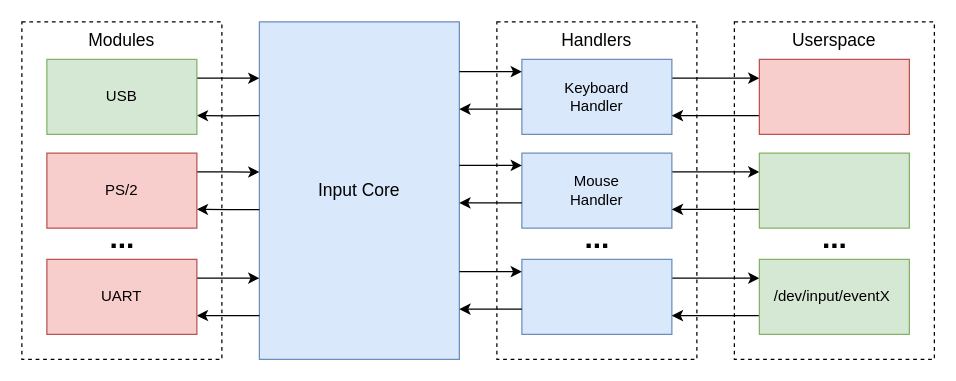
Some shapes in this 956 by 381 pixel diagram are drawn without their labels. The shapes that lost their labels are listed below. From the top down, each one's centre as x and y in pixels, then its label:
At (x=833, y=96): "TTY subsystem".
At (x=833, y=190): "/dev/input/mouseX /dev/input/mice".
At (x=596, y=296): "Event Handler".
